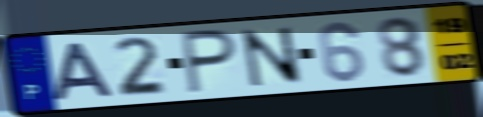2: (116, 34, 170, 100)
6: (316, 18, 368, 84)
8: (374, 14, 427, 80)
A: (51, 41, 118, 103)
N: (238, 25, 306, 89)
P: (180, 27, 240, 96)
